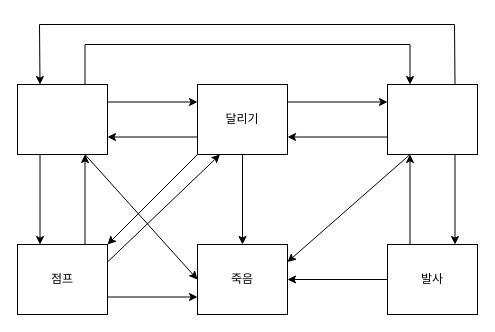
Image size: 495x332. Some labels were removed from this diagram. Each missing label, with the centre of its shape:
"기본" goes at (62,119).
"조준" goes at (432,119).
